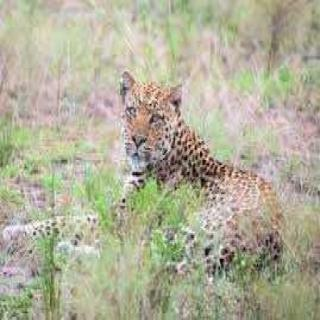Leopard: (64, 88, 268, 291)
